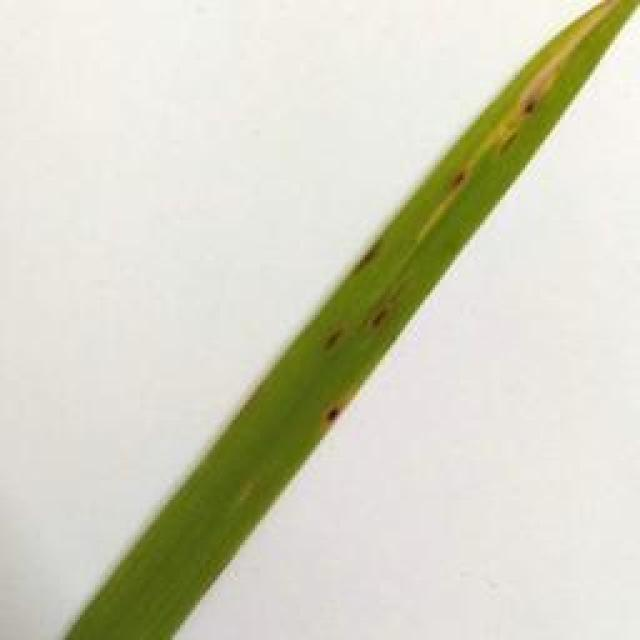Bacterial_Blight: (479, 0, 640, 128)
Brown_Spot: (340, 220, 396, 288), (432, 164, 483, 215), (488, 129, 529, 165), (314, 326, 349, 366), (316, 402, 349, 439), (374, 298, 401, 339), (522, 86, 563, 112)
